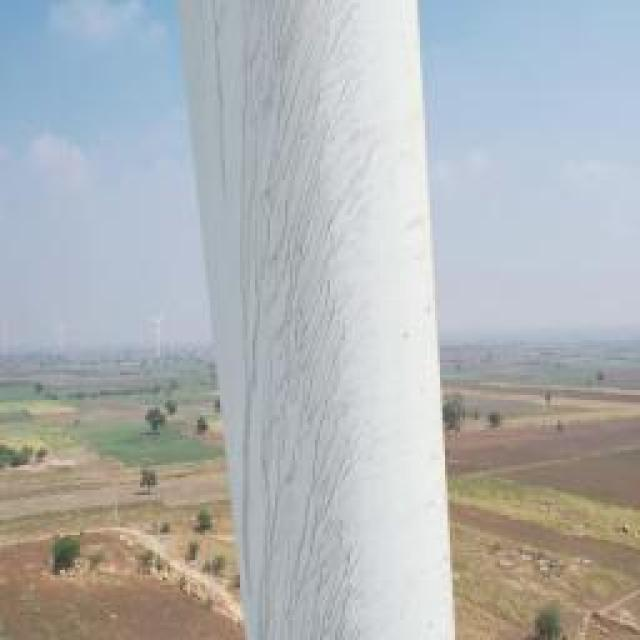Dirt: (226, 0, 388, 640)
